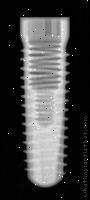Camlog: (18, 17, 70, 188)
